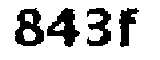3: (83, 7, 114, 49)
4: (45, 7, 80, 49)
8: (9, 4, 45, 48)
f: (117, 5, 141, 50)
